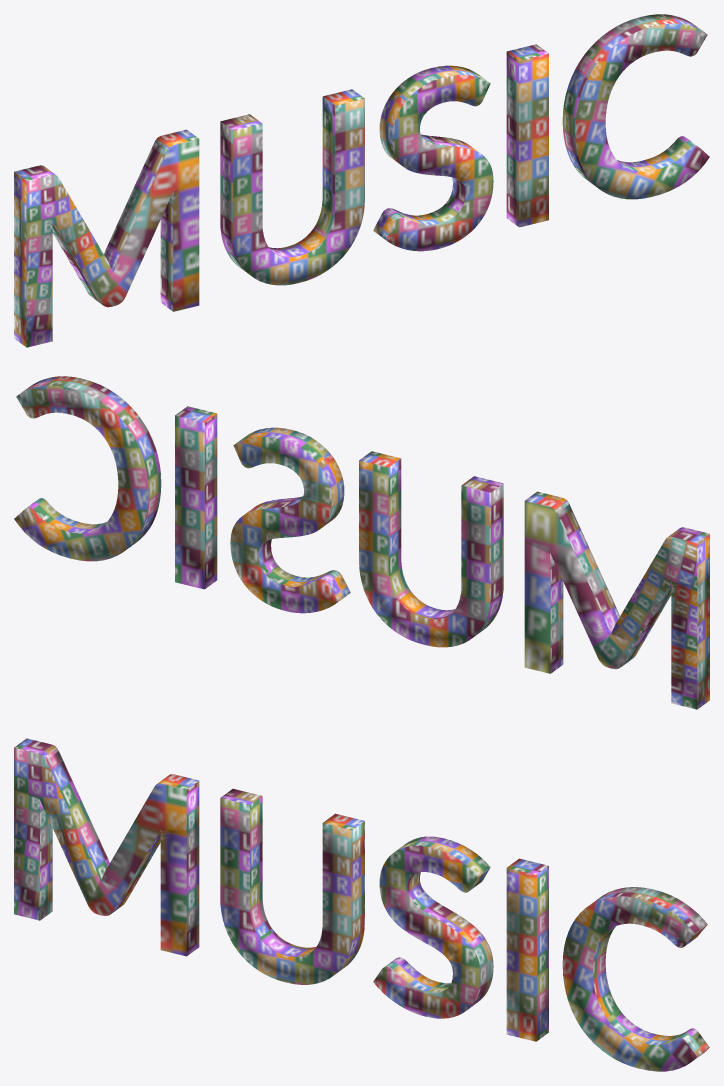
Rendered from music.dae.
3 views of the same model, one above another, from view 1: azimuth 30°, elevation 25°; view 2: azimuth 150°, elevation 25°; view 3: azimuth 330°, elevation 25° (orthographic).
Visible parts, largest first — view 1: text1-0; view 2: text1-0; view 3: text1-0.
Boxes of the visible parts, box(x1,y1,x2,y2) form: text1-0: box(14, 14, 709, 347); text1-0: box(14, 376, 709, 709); text1-0: box(14, 738, 709, 1071).
Bounding box in the file's own units: 6.2 × 1.48 × 0.2.
